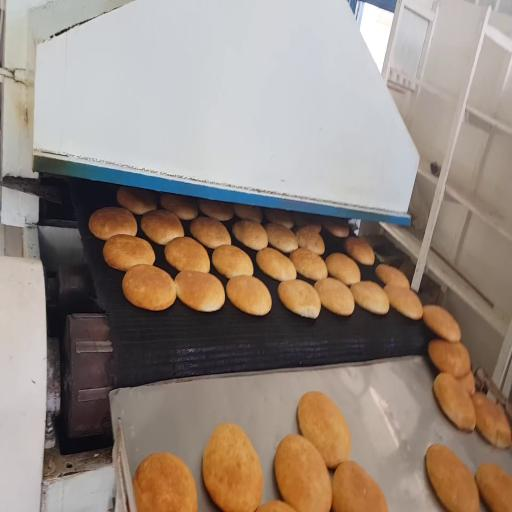bread: (203, 424, 263, 511), (275, 435, 332, 511), (298, 392, 351, 468), (133, 453, 198, 511), (426, 445, 479, 511), (332, 461, 387, 511), (433, 373, 476, 431), (122, 265, 176, 310), (473, 393, 511, 448), (175, 271, 225, 312), (103, 235, 155, 271), (227, 275, 271, 315), (476, 464, 511, 511), (278, 280, 321, 318), (428, 340, 470, 378), (89, 207, 137, 240), (165, 238, 210, 272), (141, 210, 184, 245), (315, 278, 354, 316), (423, 305, 461, 342), (384, 284, 422, 319), (256, 248, 296, 281), (212, 246, 253, 278), (190, 217, 231, 248), (351, 281, 389, 314), (290, 248, 327, 281), (326, 253, 360, 285), (117, 187, 157, 214), (232, 220, 268, 250), (160, 193, 198, 220), (265, 224, 298, 253), (296, 226, 325, 255), (376, 264, 410, 288), (345, 237, 374, 265), (199, 199, 233, 221), (293, 212, 321, 233), (264, 209, 293, 228), (234, 204, 262, 223), (323, 219, 349, 237), (458, 371, 475, 395), (258, 501, 294, 511)
